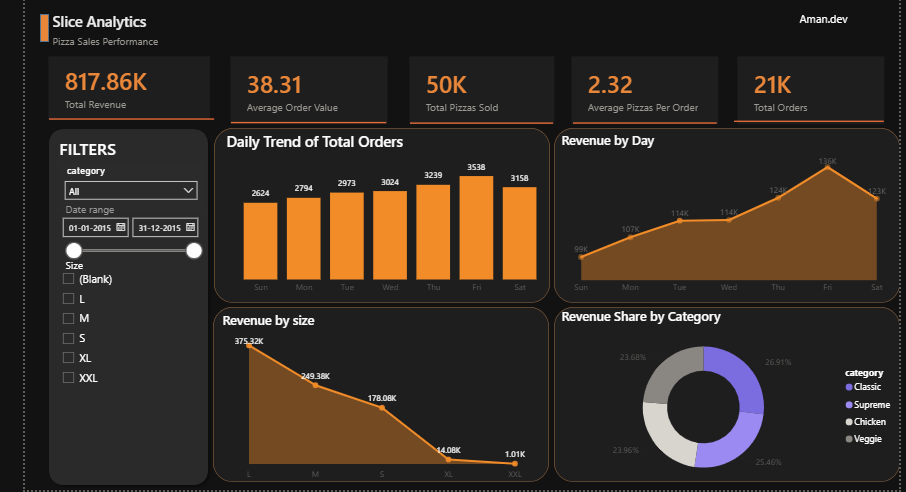

What the dashboard file says about the page in this screenshot:
{"tool":"powerbi","page":{"name":"Page 1","canvas":[1280,720],"ordinal":0},"visuals":[{"type":"shape","box":[3.4,15.1,324.2,90.7],"z":0},{"type":"cardVisual","fields":{"Data":["Calendar.Total Revenue"]},"box":[29.3,80.5,246.9,102.5],"z":4000},{"type":"cardVisual","fields":{"Data":["Calendar.Average Order Value"]},"box":[295.6,80.5,240.2,109.2],"z":5000},{"type":"cardVisual","fields":{"Data":["Calendar.Total Pizzas Sold"]},"box":[557.6,80.5,222,109.9],"z":6000},{"type":"cardVisual","fields":{"Data":["Calendar.Total Orders"]},"box":[1037.6,80.5,225.1,109.2],"z":7000},{"type":"cardVisual","fields":{"Data":["Calendar.Average Pizzas Per Order"]},"box":[794.6,80.5,225.1,109.2],"z":8000},{"type":"shape","box":[35.1,169.8,241.6,14.8],"z":9000},{"type":"shape","box":[1037.6,171.2,219.5,18.4],"z":10000},{"type":"shape","box":[802,175.6,210.3,14.8],"z":11000},{"type":"shape","box":[301.5,174.1,227.2,16.3],"z":12000},{"type":"shape","box":[27.8,184.4,247.3,535.6],"z":13000},{"type":"textbox","box":[45.4,199,120.3,41.6],"z":14000},{"type":"slicer","fields":{"Values":["Pizza Sales.category"]},"box":[48.3,240,213.7,71.7],"z":15000},{"type":"shape","box":[563.4,169.8,209.4,26.7],"z":16000},{"type":"textbox","box":[54.1,294.1,120,35.1],"z":17000},{"type":"slicer","fields":{"Values":["Calendar.Date"]},"box":[42.4,311.7,225.4,90.7],"z":18000},{"type":"textbox","box":[54.1,376.1,60,36.6],"z":19000},{"type":"slicer","fields":{"Values":["Pizza Sales.size"]},"box":[42.4,390.7,225.4,196.1],"z":20000},{"type":"shape","box":[275.1,452.2,491.7,256.1],"z":21000},{"type":"shape","box":[276.6,190.2,491.7,256.1],"z":22000},{"type":"shape","box":[774.1,452.2,506.3,256.1],"z":23000},{"type":"shape","box":[774.1,190.2,506.3,256.1],"z":24000},{"type":"clusteredColumnChart","title":"Daily Trend of Total Orders","fields":{"Category":["Calendar.Day Name Short"],"Y":["Calendar.Total Orders"]},"box":[289.8,194.6,490.2,247.3],"z":25000},{"type":"lineChart","title":"Revenue by Day","fields":{"Category":["Calendar.Day Name Short"],"Y":["Calendar.Total Revenue"]},"box":[780,194.6,500.5,247.3],"z":26000},{"type":"donutChart","title":"Revenue Share by Category","fields":{"Category":["Pizza Sales.category"],"Y":["Calendar.Total Revenue"]},"box":[780,452.2,500.5,267.8],"z":27000},{"type":"lineChart","title":"Revenue by size","fields":{"Category":["Pizza Sales.size"],"Y":["Calendar.Total Revenue"]},"box":[283.9,458,477.1,257.6],"z":28000},{"type":"textbox","box":[1128.3,14.6,143.4,49.8],"z":29000},{"type":"shape","box":[22,23.4,13.2,41],"z":29001},{"type":"textbox","box":[35.3,15.1,275.5,65.5],"z":29002},{"type":"textbox","box":[35.1,48.3,166.8,32.2],"z":29003}]}

Visuals, with their boxes on the page's 1280x720 design canvas (x1, y1, x2, y2). These are canvas units, not pixel positions in the 906x492 screenshot, which may show the page scaled, cropped or inside an application window:
shape: box=[3, 15, 328, 106]
cardVisual - Calendar.Total Revenue: box=[29, 80, 276, 183]
cardVisual - Calendar.Average Order Value: box=[296, 80, 536, 190]
cardVisual - Calendar.Total Pizzas Sold: box=[558, 80, 780, 190]
cardVisual - Calendar.Total Orders: box=[1038, 80, 1263, 190]
cardVisual - Calendar.Average Pizzas Per Order: box=[795, 80, 1020, 190]
shape: box=[35, 170, 277, 185]
shape: box=[1038, 171, 1257, 190]
shape: box=[802, 176, 1012, 190]
shape: box=[302, 174, 529, 190]
shape: box=[28, 184, 275, 720]
textbox: box=[45, 199, 166, 241]
slicer - Pizza Sales.category: box=[48, 240, 262, 312]
shape: box=[563, 170, 773, 196]
textbox: box=[54, 294, 174, 329]
slicer - Calendar.Date: box=[42, 312, 268, 402]
textbox: box=[54, 376, 114, 413]
slicer - Pizza Sales.size: box=[42, 391, 268, 587]
shape: box=[275, 452, 767, 708]
shape: box=[277, 190, 768, 446]
shape: box=[774, 452, 1280, 708]
shape: box=[774, 190, 1280, 446]
"Daily Trend of Total Orders" clusteredColumnChart: box=[290, 195, 780, 442]
"Revenue by Day" lineChart: box=[780, 195, 1280, 442]
"Revenue Share by Category" donutChart: box=[780, 452, 1280, 720]
"Revenue by size" lineChart: box=[284, 458, 761, 716]
textbox: box=[1128, 15, 1272, 64]
shape: box=[22, 23, 35, 64]
textbox: box=[35, 15, 311, 81]
textbox: box=[35, 48, 202, 80]
